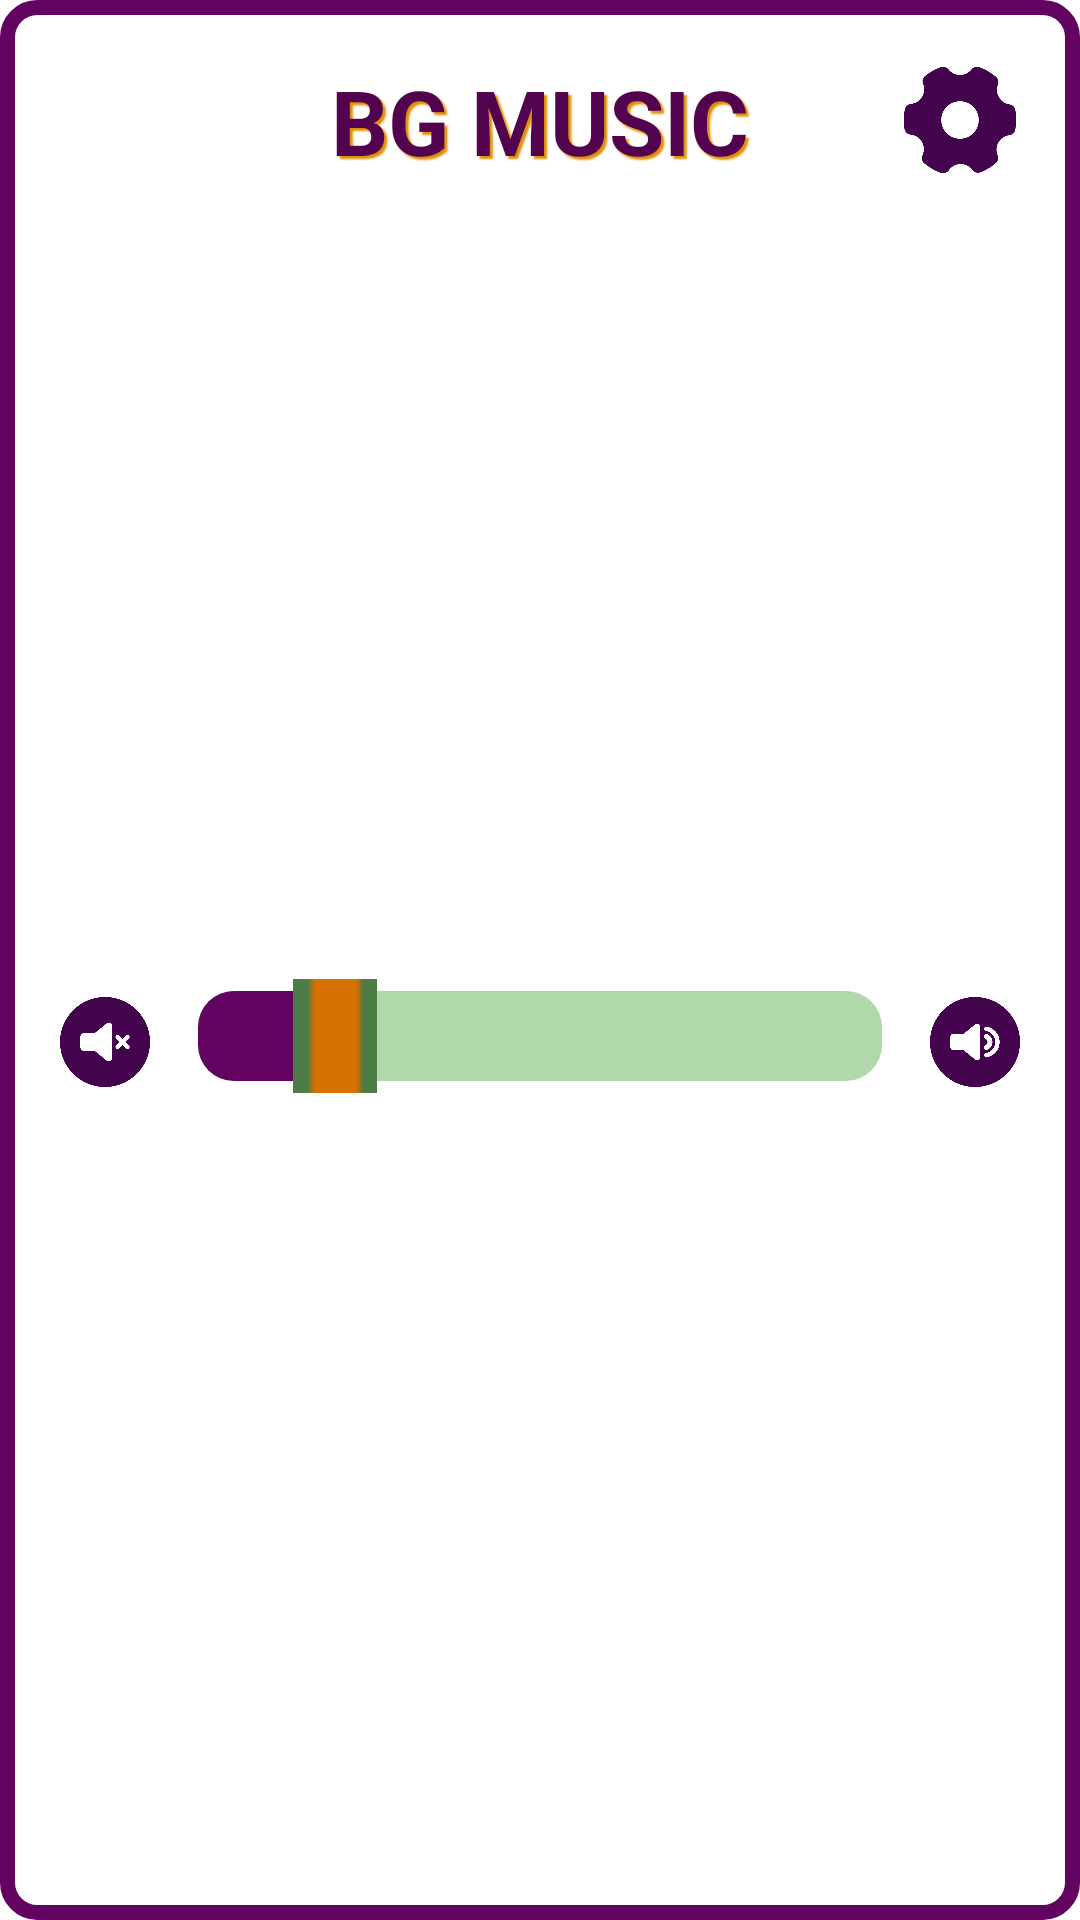

Locate icon controls on the screen. Image size 1080*1920, boxes as (x1, y1, x2, y2).
mute: (60, 997, 150, 1087)
setting: (904, 67, 1016, 173)
volume: (930, 997, 1020, 1087)
